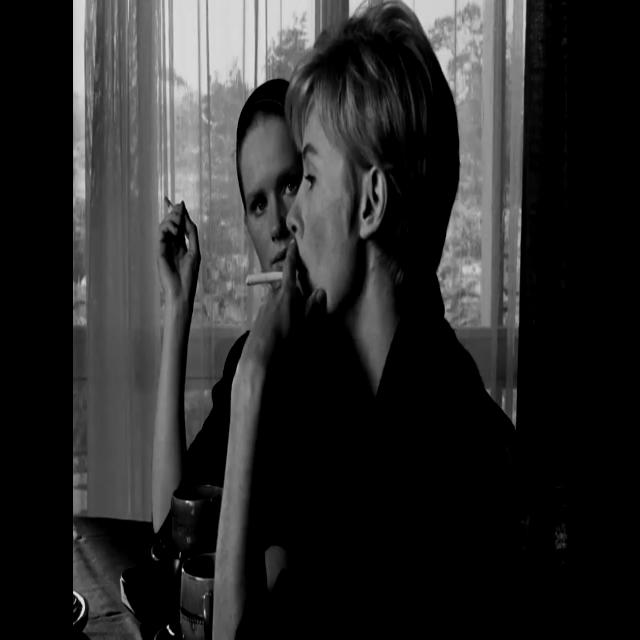Smooking: (240, 266, 299, 294)
